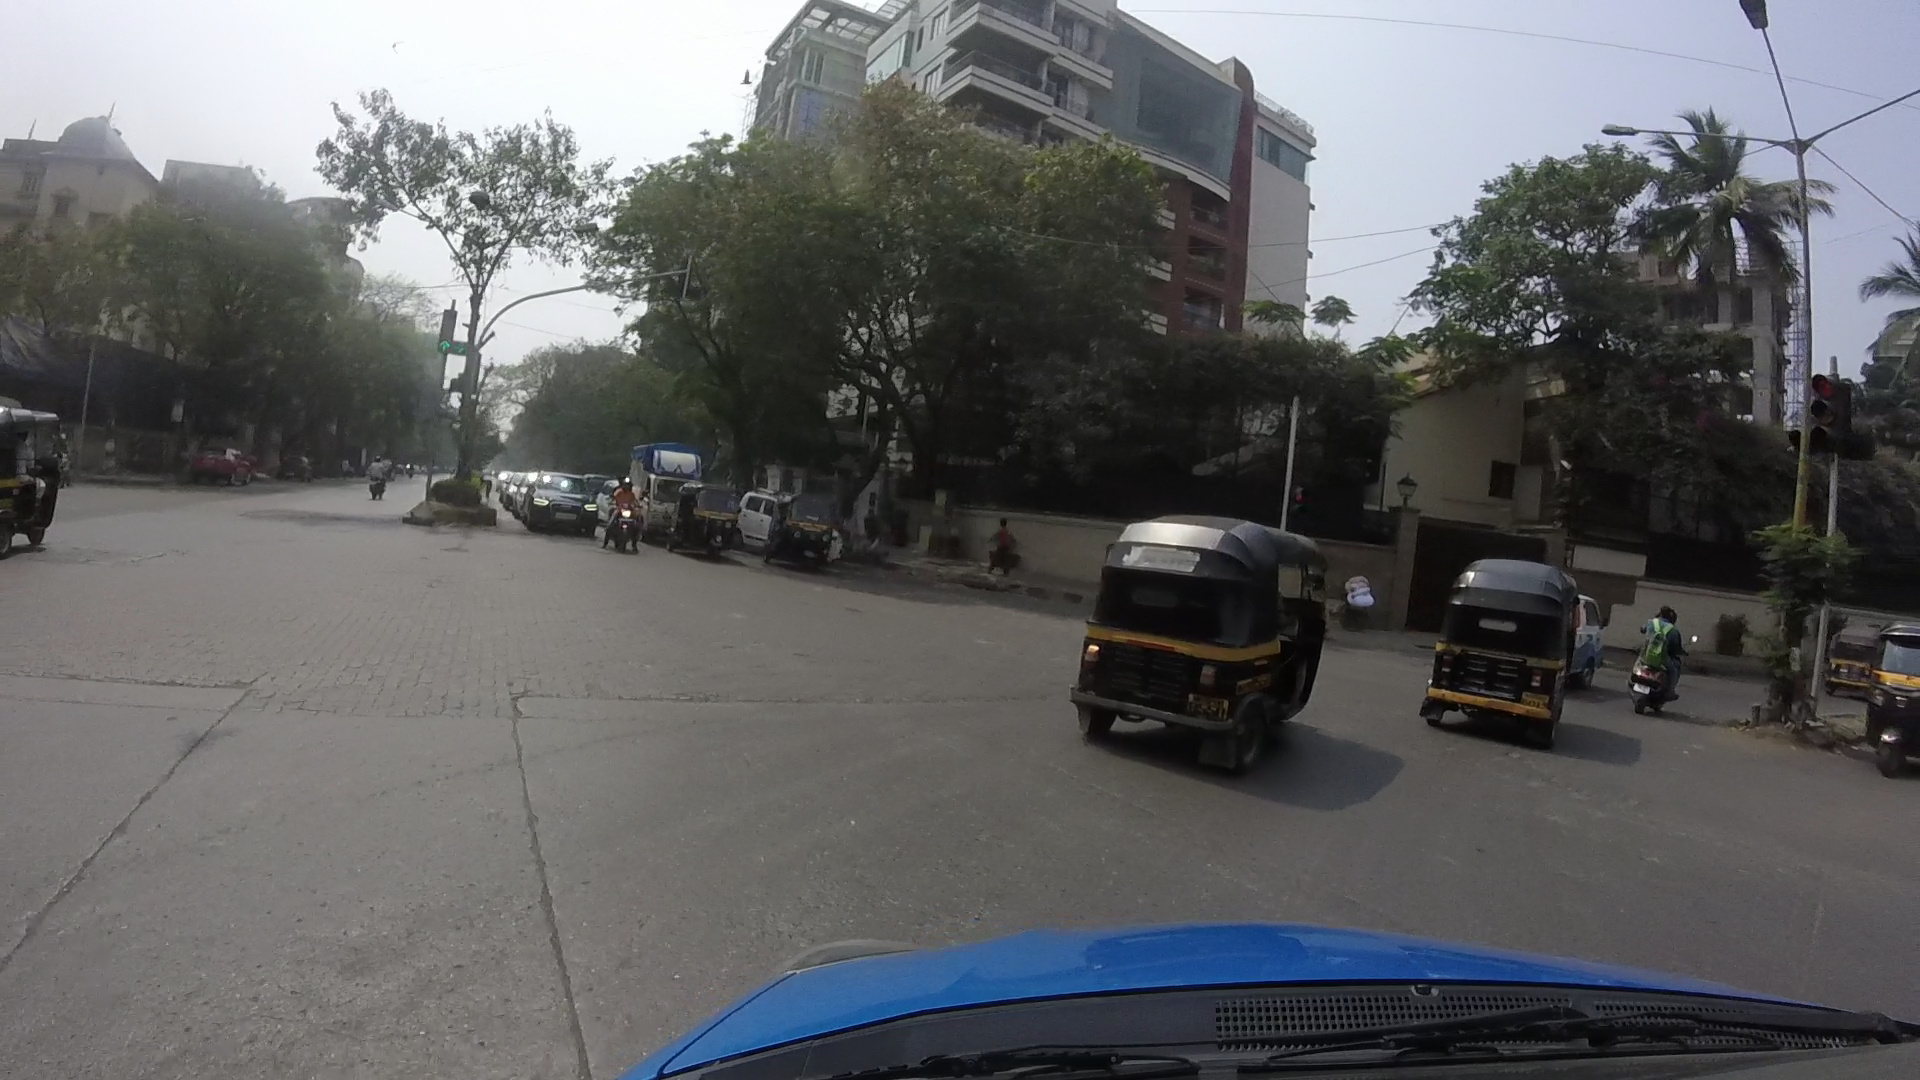bike/scooter: (1615, 604, 1677, 723)
rickshaw: (1077, 510, 1325, 783), (1428, 560, 1569, 731), (1866, 613, 1920, 761)
